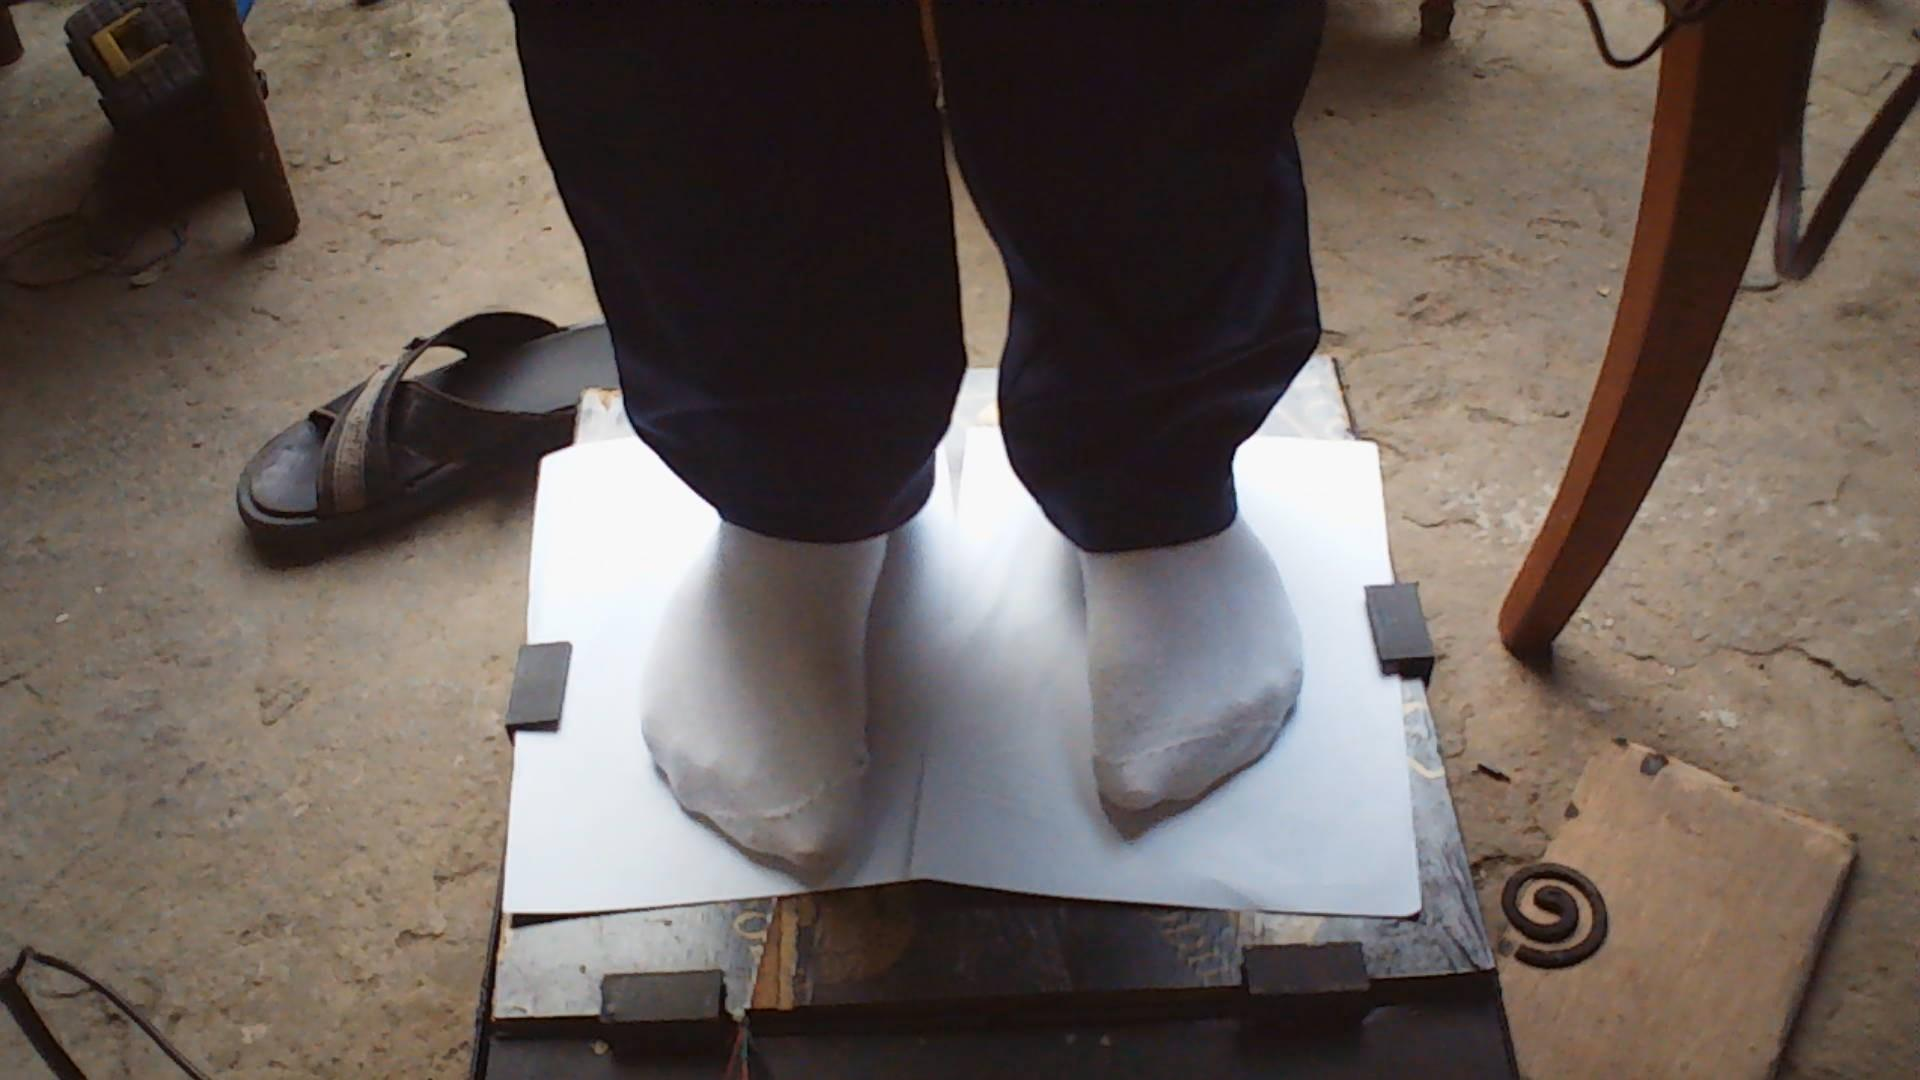white_socks: (640, 524, 887, 877), (1079, 516, 1302, 812)
